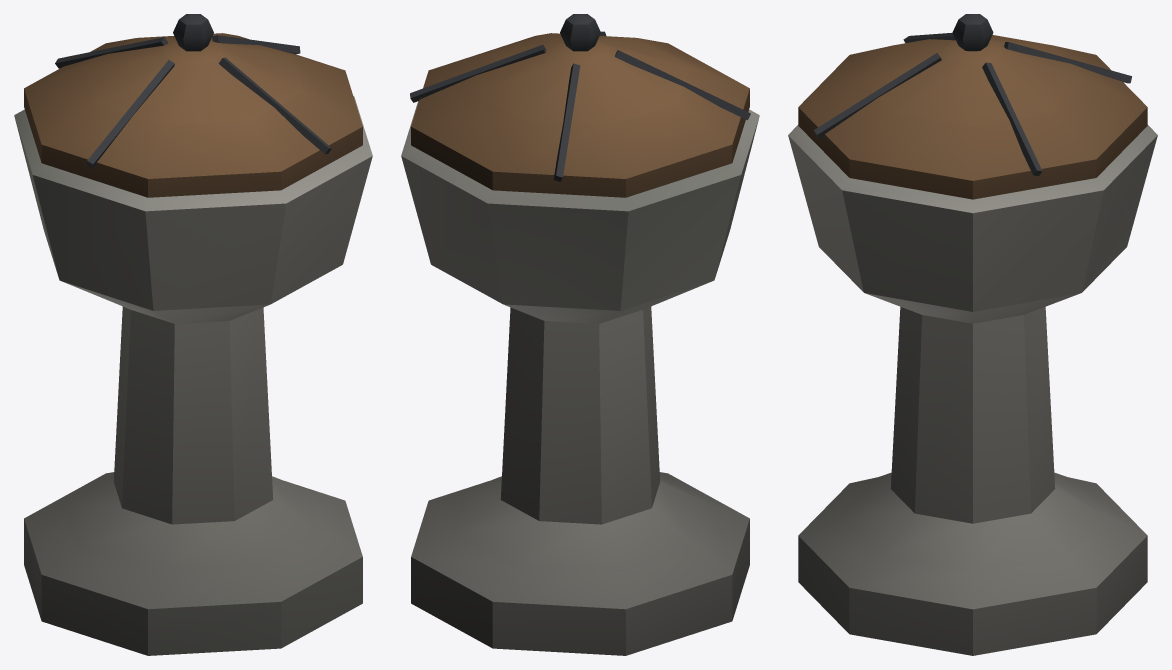
Rendered from ph_int_church_font.glb.
3 views of the same model, side by side, from view 1: azimuth 30°, elevation 25°; view 2: azimuth 150°, elevation 25°; view 3: azimuth 270°, elevation 25° (orthographic).
Parts seen in each view (by area): view 1: ph_int_church_font; view 2: ph_int_church_font; view 3: ph_int_church_font.
Part boxes in pixels (left/top/right/bottom): ph_int_church_font: left=14, top=14, right=372, bottom=655; ph_int_church_font: left=401, top=14, right=759, bottom=655; ph_int_church_font: left=788, top=14, right=1157, bottom=655.
Size of the model in its own units: 0.72 by 1.22 by 0.72.
